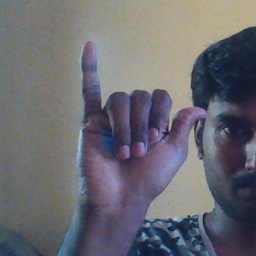J: (74, 39, 209, 205)
